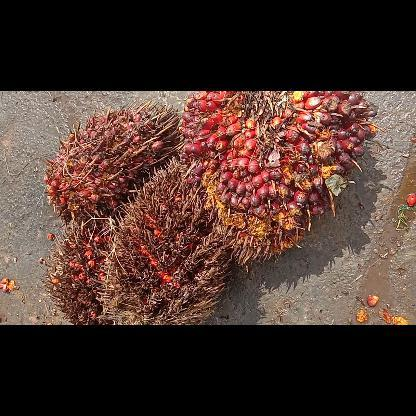TBS masak: (178, 91, 376, 268), (42, 100, 182, 230)
Terlalu masak: (94, 156, 232, 324), (40, 220, 114, 324)
